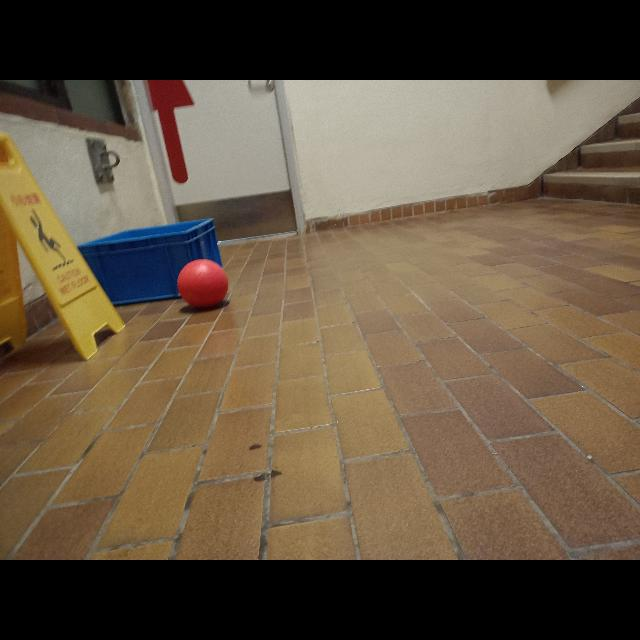R: (178, 259, 228, 307)
